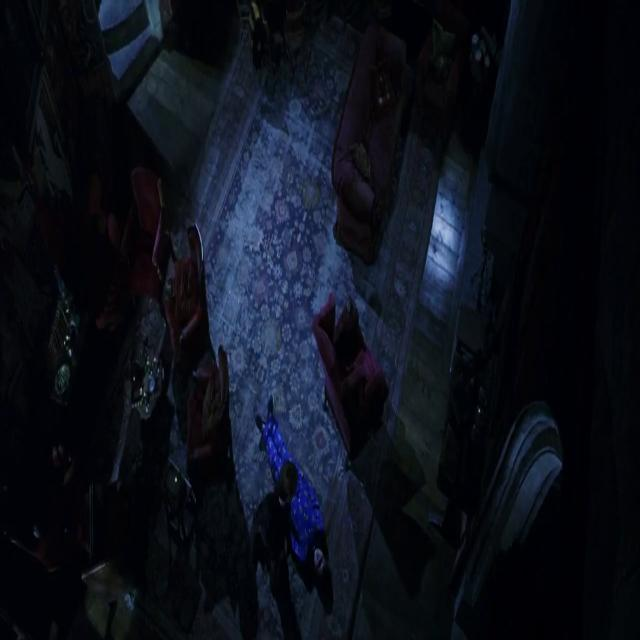People: (257, 368, 342, 616), (249, 445, 297, 640)
chair: (317, 23, 416, 289), (313, 260, 399, 498), (104, 163, 169, 297), (157, 222, 213, 363), (422, 0, 470, 141), (157, 431, 199, 591), (193, 329, 232, 501), (34, 255, 79, 402)
